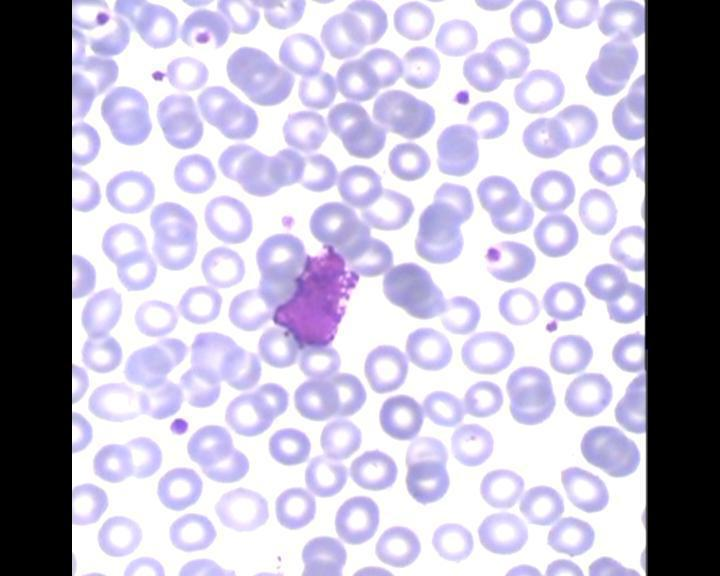baso: (271, 242, 362, 350)
